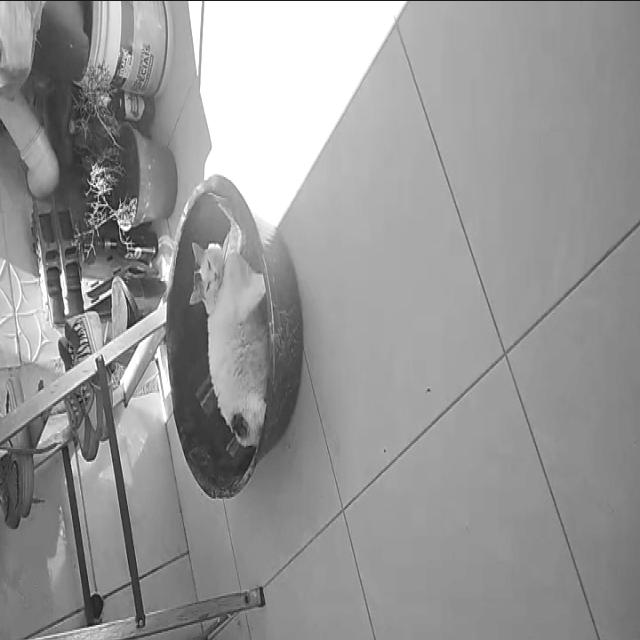Simba: (185, 206, 273, 476)
